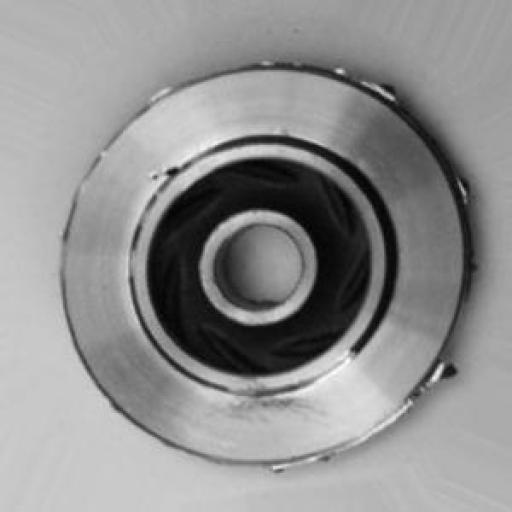defect: (46, 50, 504, 483)
